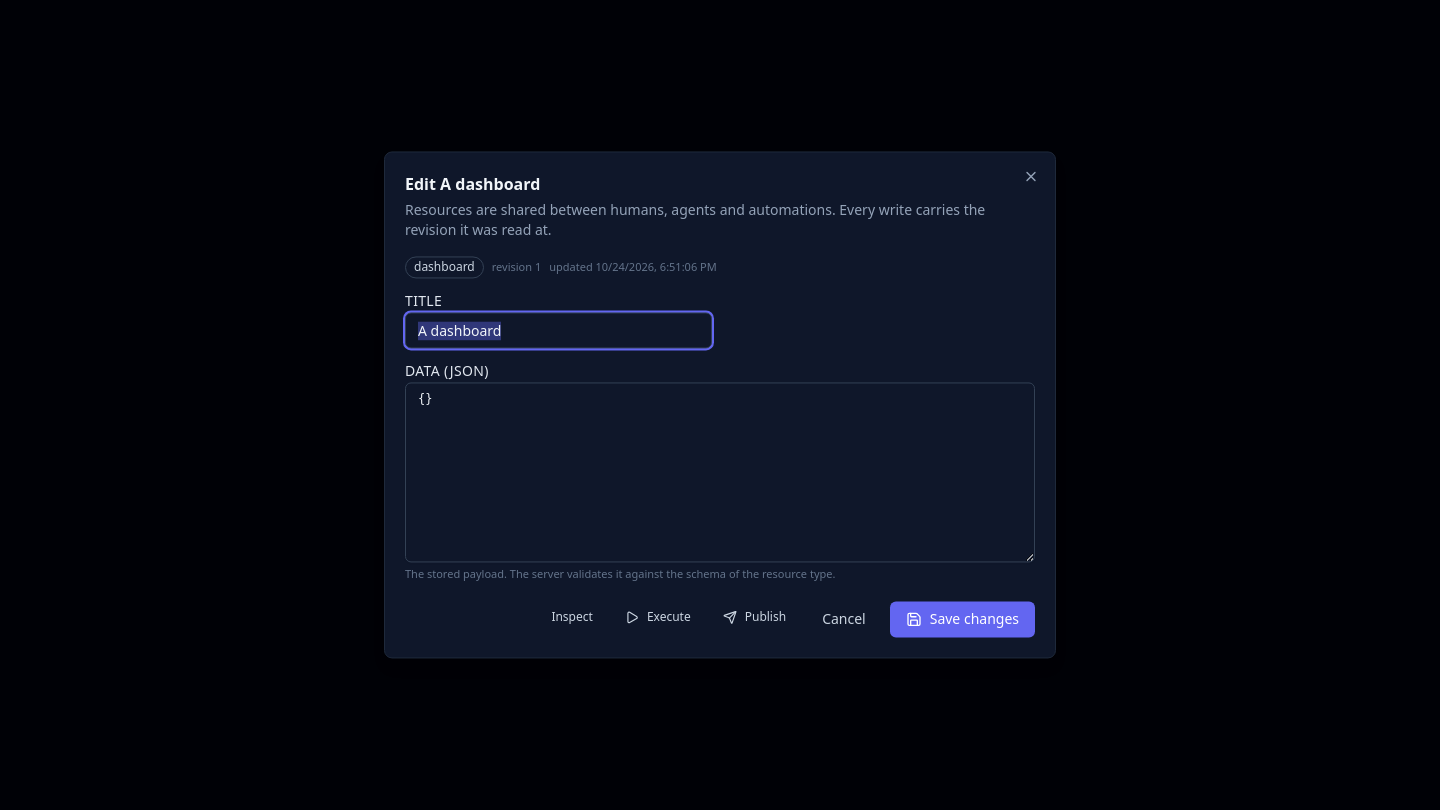
Test case: the outcome the panel renders › says a resource was published when the server says it was
Click the button "Publish".
click(754, 618)  # box [711,602,798,634]
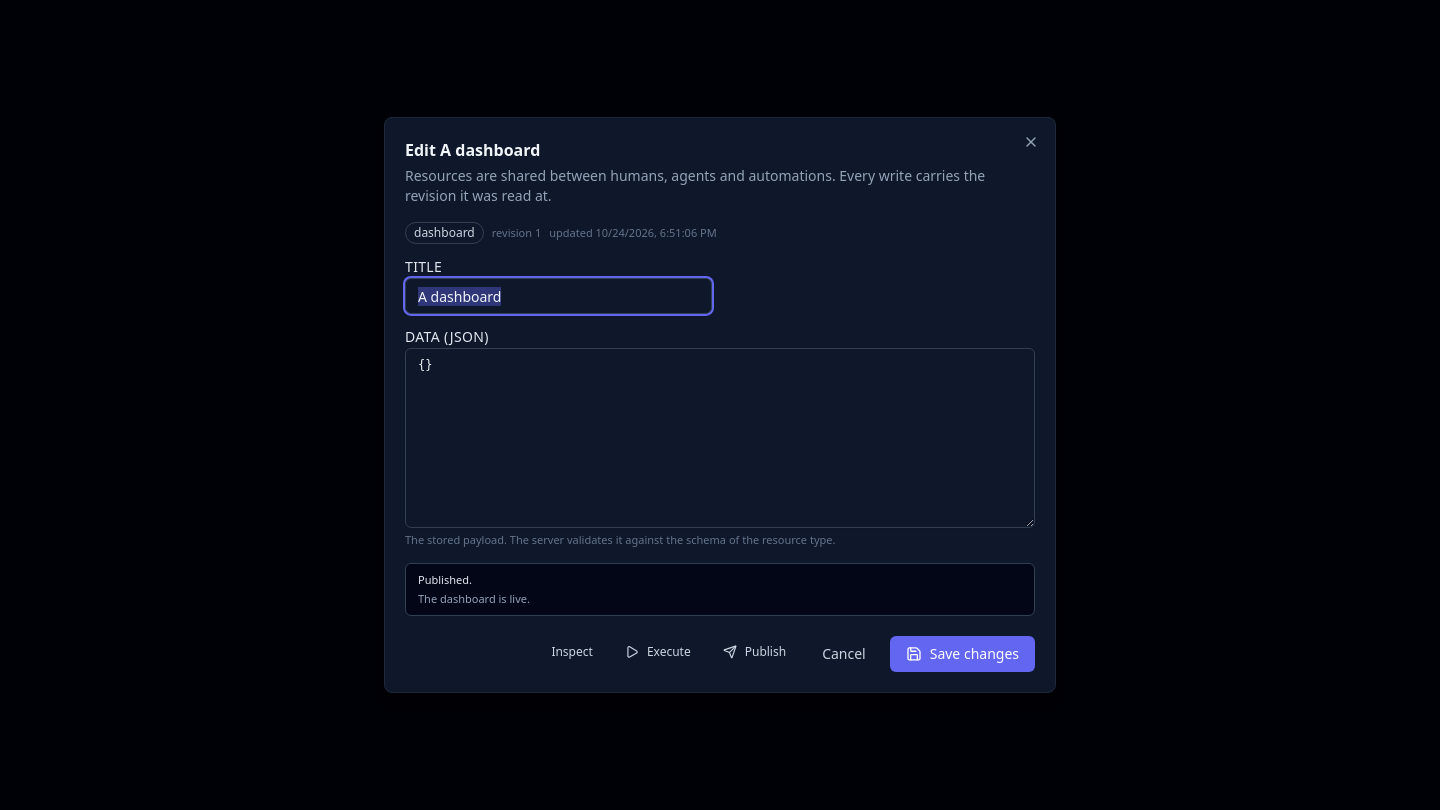
Check: the text "Published." is shown, box [418,572,472,587]
Check: the text "The dashboard is live." is shown, box [418,591,530,606]
